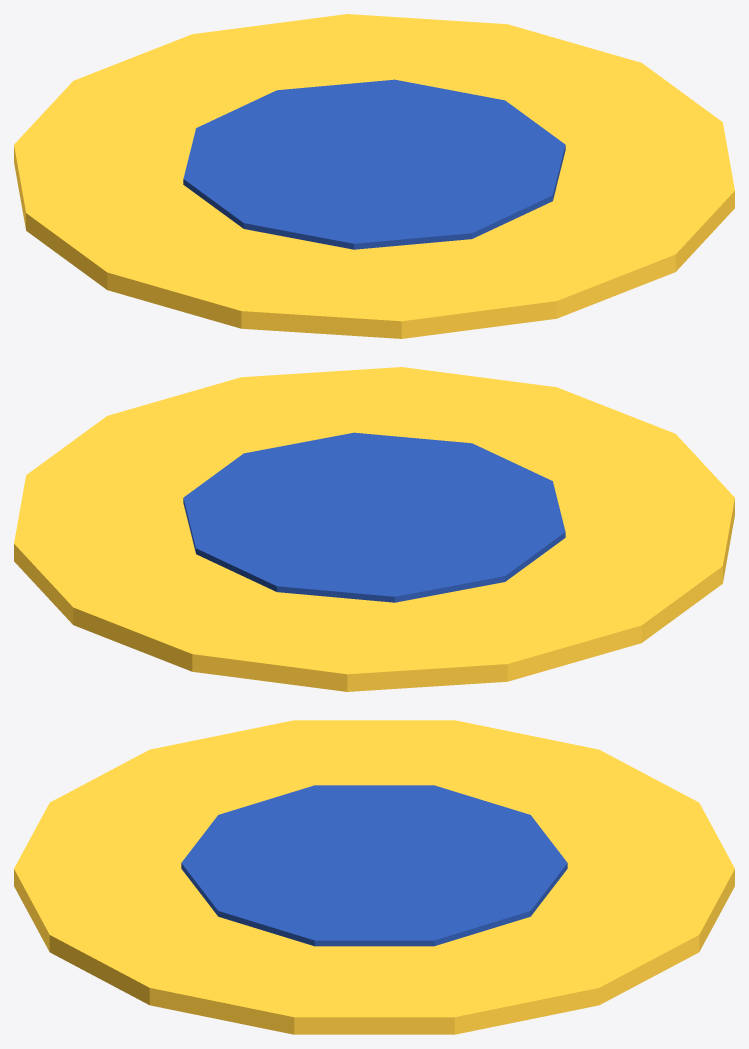
The model's file is ornament_plate.glb.
3 renders of one model, top to bottom at view 1: azimuth 30°, elevation 25°; view 2: azimuth 150°, elevation 25°; view 3: azimuth 270°, elevation 25°, orthographic.
Parts seen in each view (by area): view 1: plate_gold, plate_porcelain_blue; view 2: plate_gold, plate_porcelain_blue; view 3: plate_gold, plate_porcelain_blue.
Boxes of the visible parts, x1,y1,x2,y2 form: plate_gold: (14, 14, 734, 338); plate_porcelain_blue: (183, 79, 565, 249); plate_gold: (14, 367, 734, 691); plate_porcelain_blue: (183, 432, 565, 602); plate_gold: (14, 720, 734, 1034); plate_porcelain_blue: (181, 785, 567, 946).
Bounding box in the file's own units: 0.2184 × 0.023 × 0.224.
